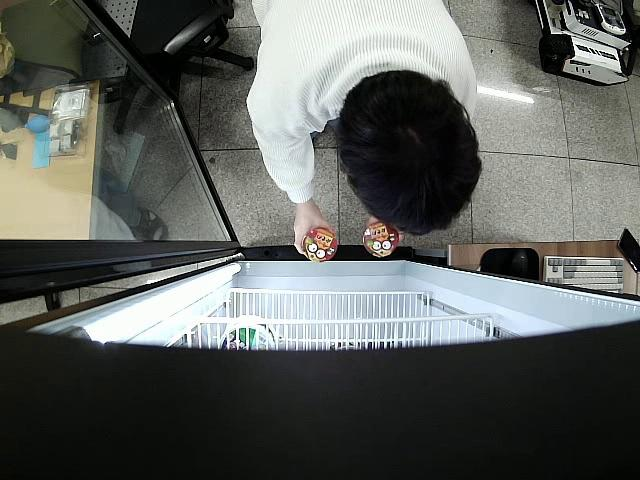00_hand: (293, 201, 331, 256)
06_nuguri_S: (364, 217, 399, 259), (302, 226, 338, 262)
